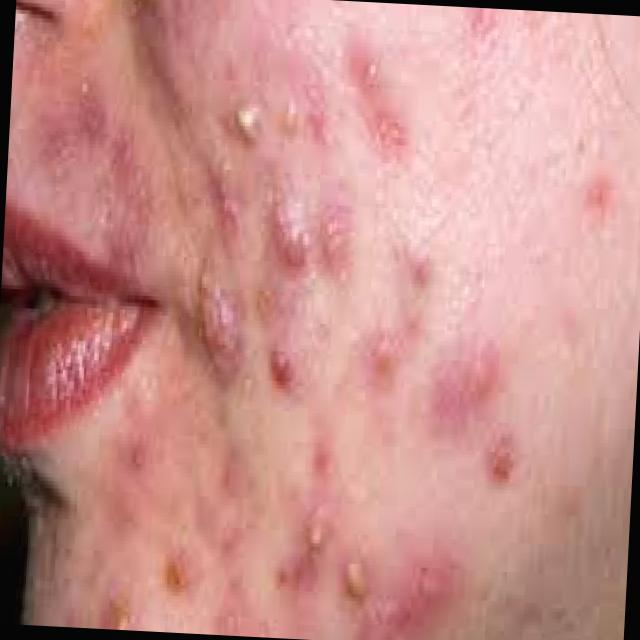nodule: (198, 289, 248, 389), (270, 198, 311, 272)
